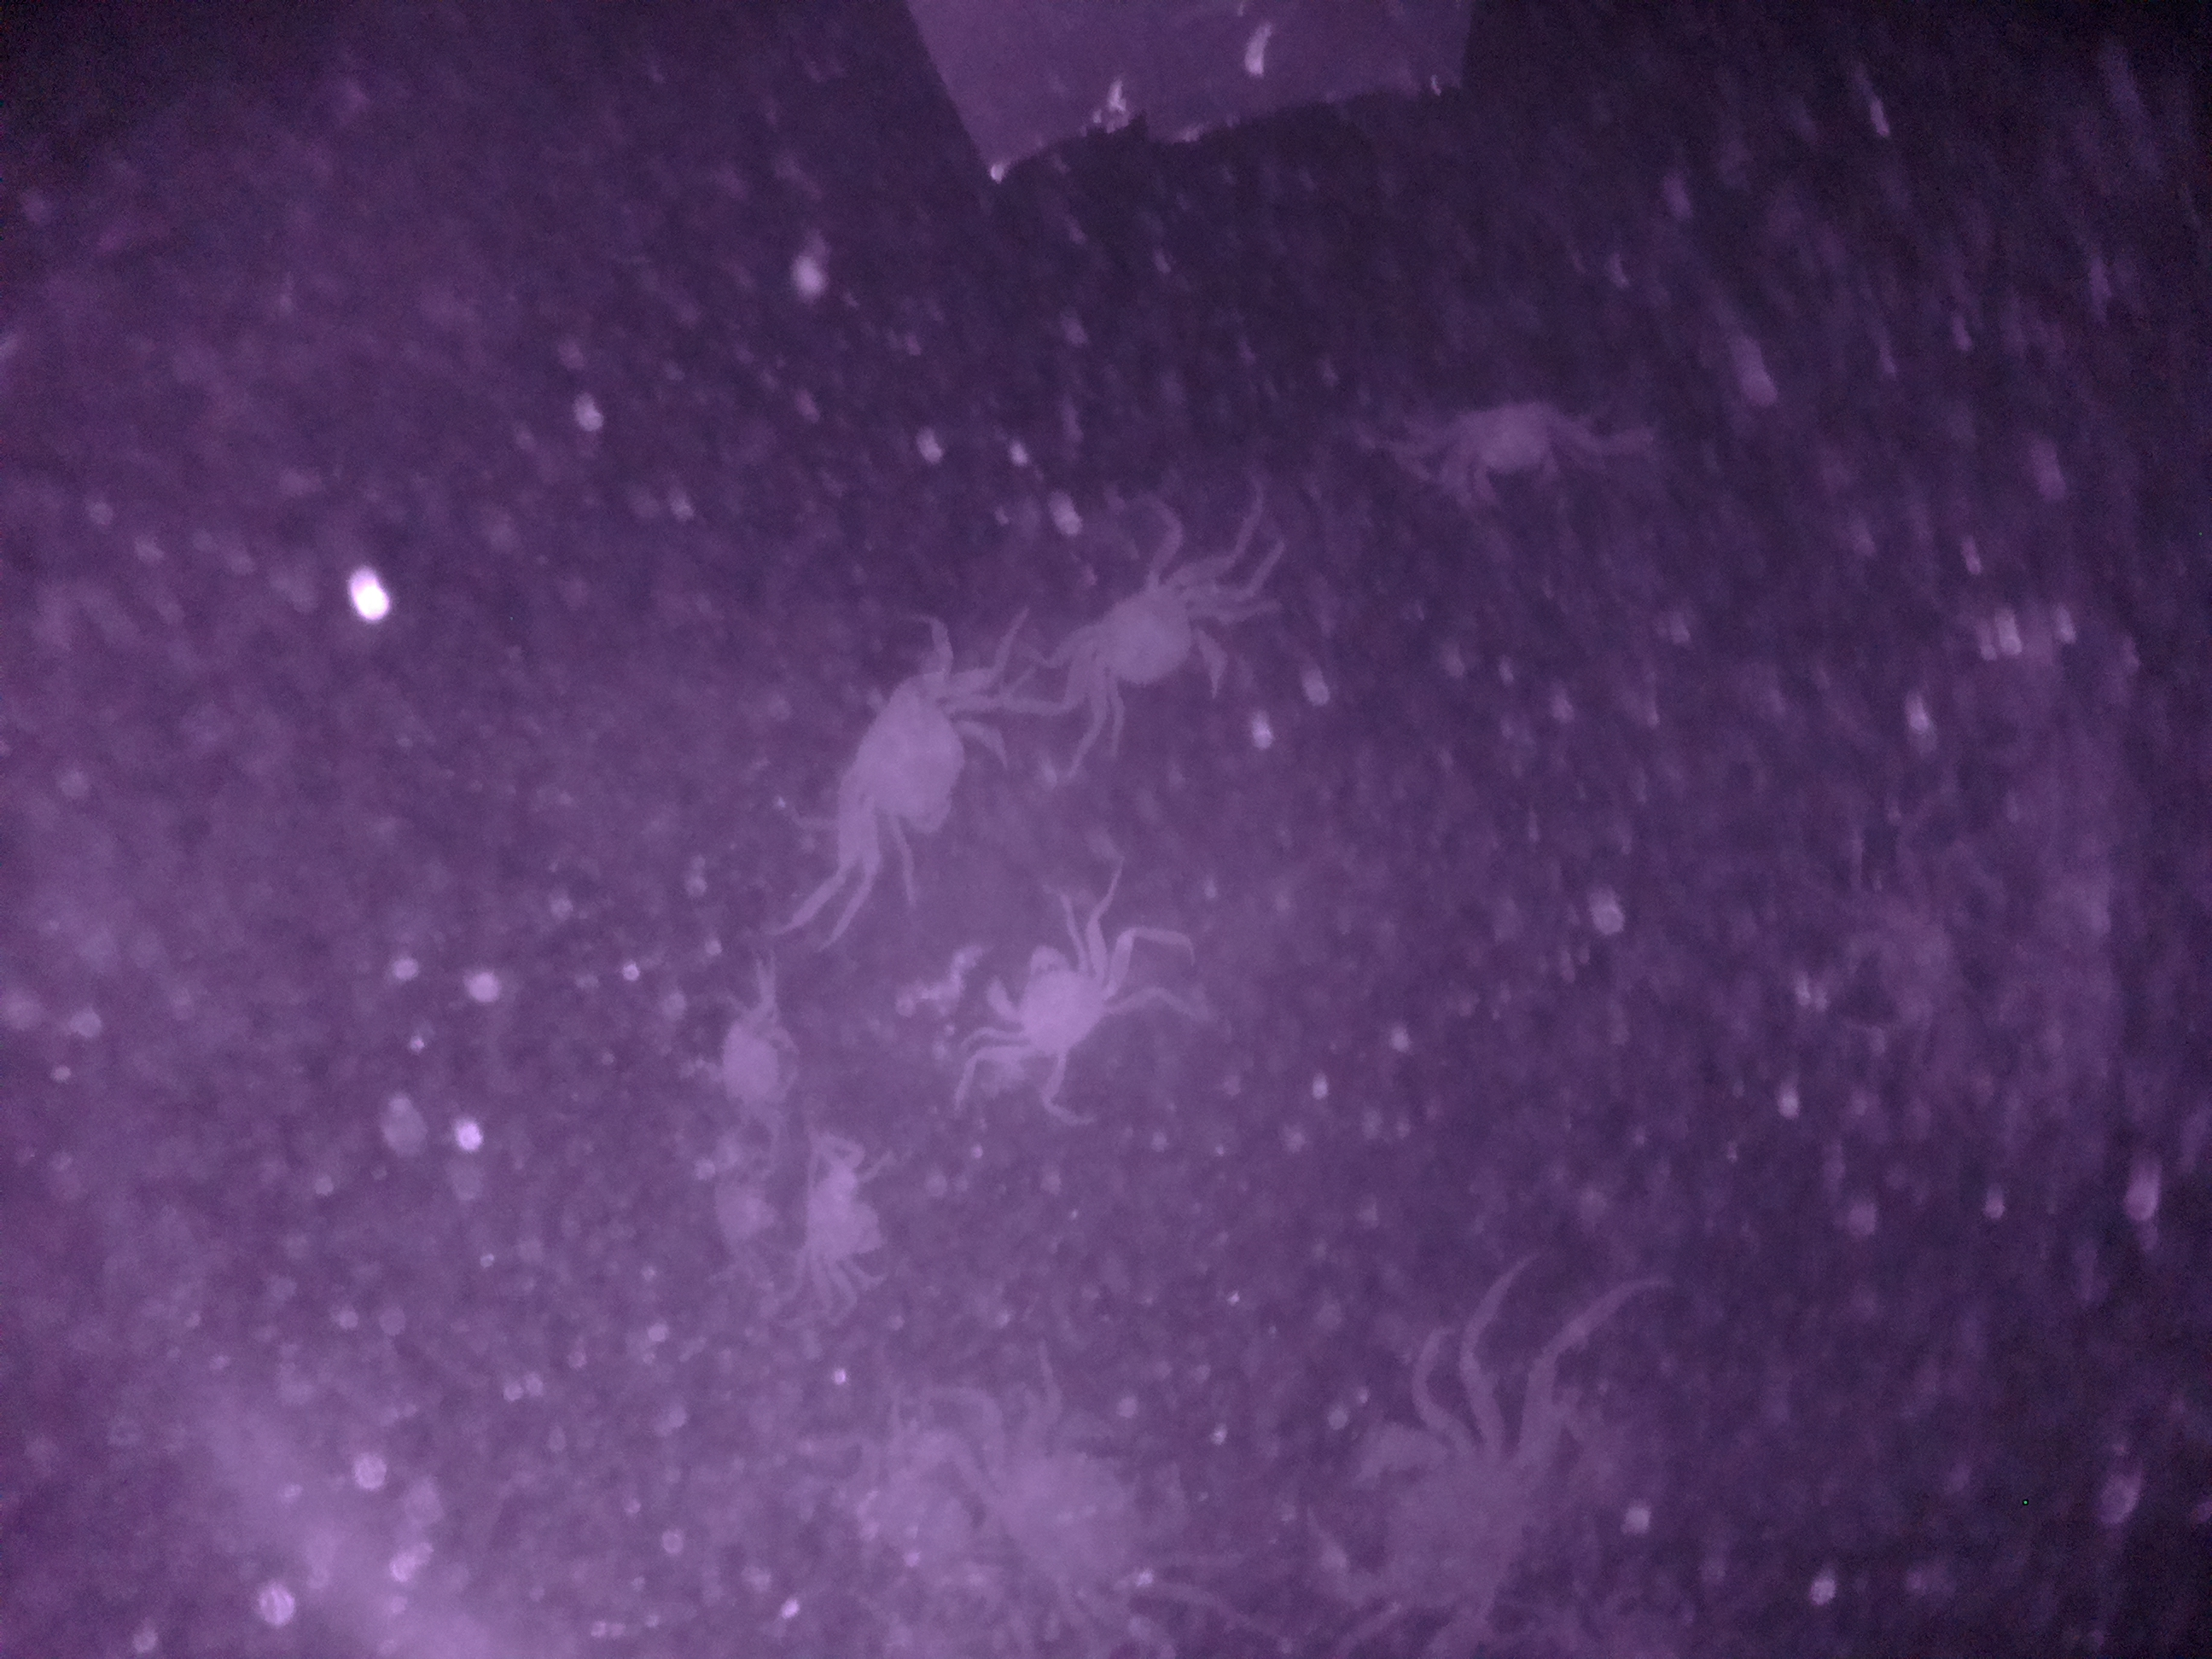Crab: (1049, 551, 1238, 742), (817, 653, 989, 863), (977, 925, 1122, 1084)
